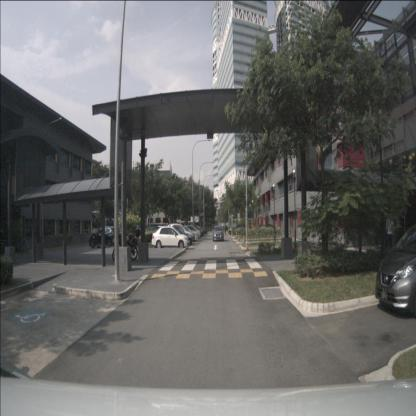cone: (242, 235, 246, 244), (246, 240, 249, 251), (235, 231, 238, 239), (237, 233, 240, 241), (231, 231, 233, 237)
